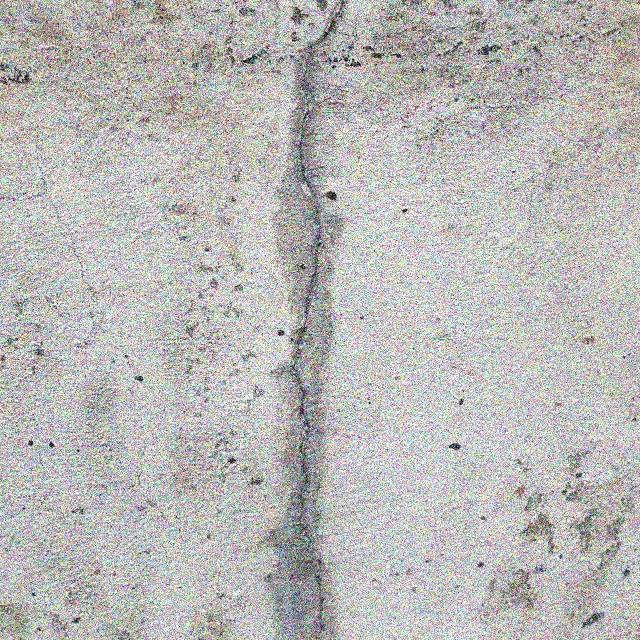SurfaceCrack: (228, 0, 378, 640)
